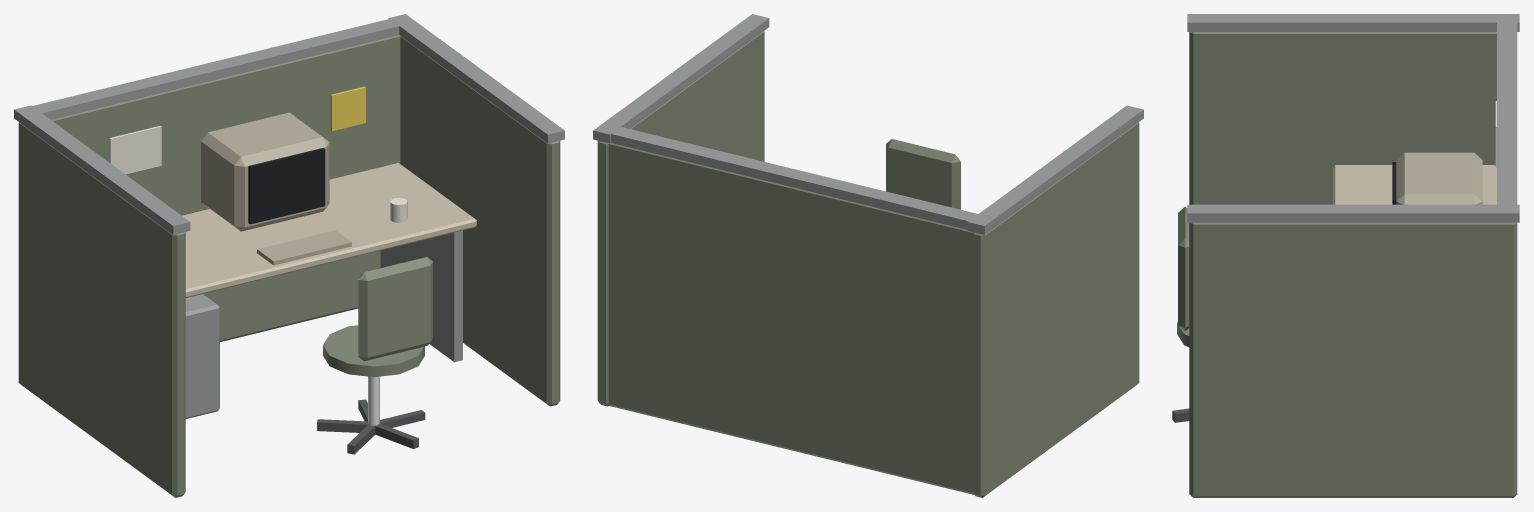
File: an_cubicle.glb
3 renders of one model, left to right at view 1: azimuth 30°, elevation 25°; view 2: azimuth 150°, elevation 25°; view 3: azimuth 270°, elevation 25°, orthographic. The views are drawn at different scales.
Visible parts, largest first — view 1: an_cubicle; view 2: an_cubicle; view 3: an_cubicle.
Boxes of the visible parts, left/top/right/bottom form: an_cubicle: left=14, top=14, right=564, bottom=497; an_cubicle: left=593, top=14, right=1143, bottom=497; an_cubicle: left=1172, top=14, right=1519, bottom=497.
Bounding box in the file's own units: 2.3 × 1.54 × 1.69.
